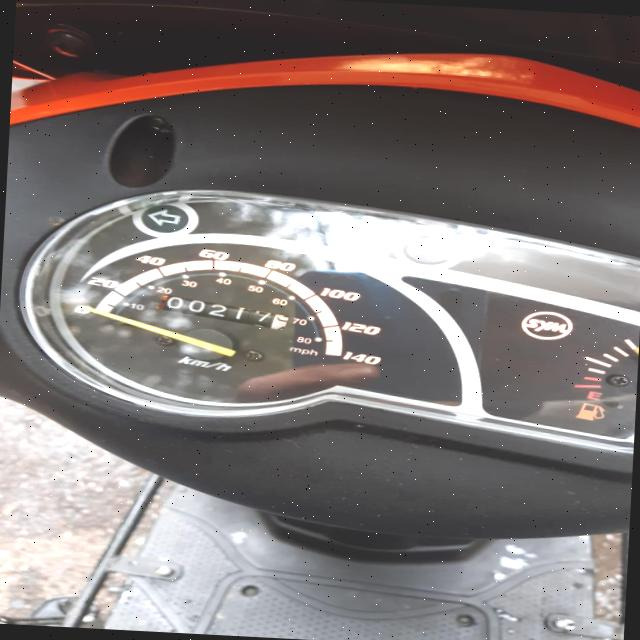odometer: (154, 292, 291, 332)
